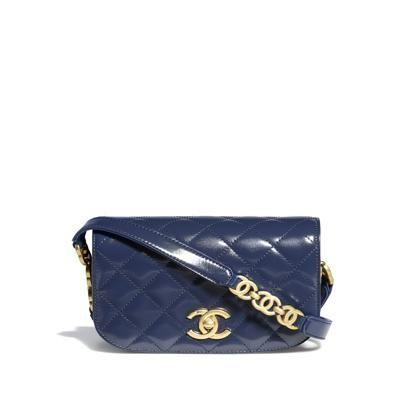not trash: (67, 210, 344, 353)
